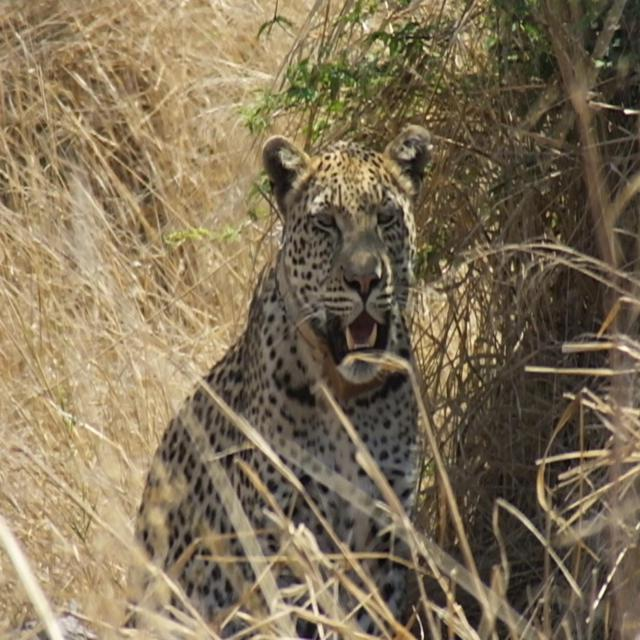Leopard: (120, 103, 437, 640)
